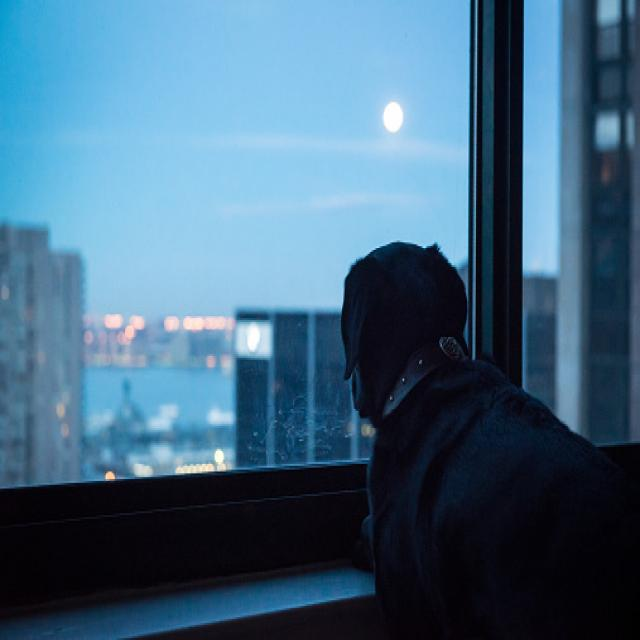Dog: (306, 212, 640, 640)
